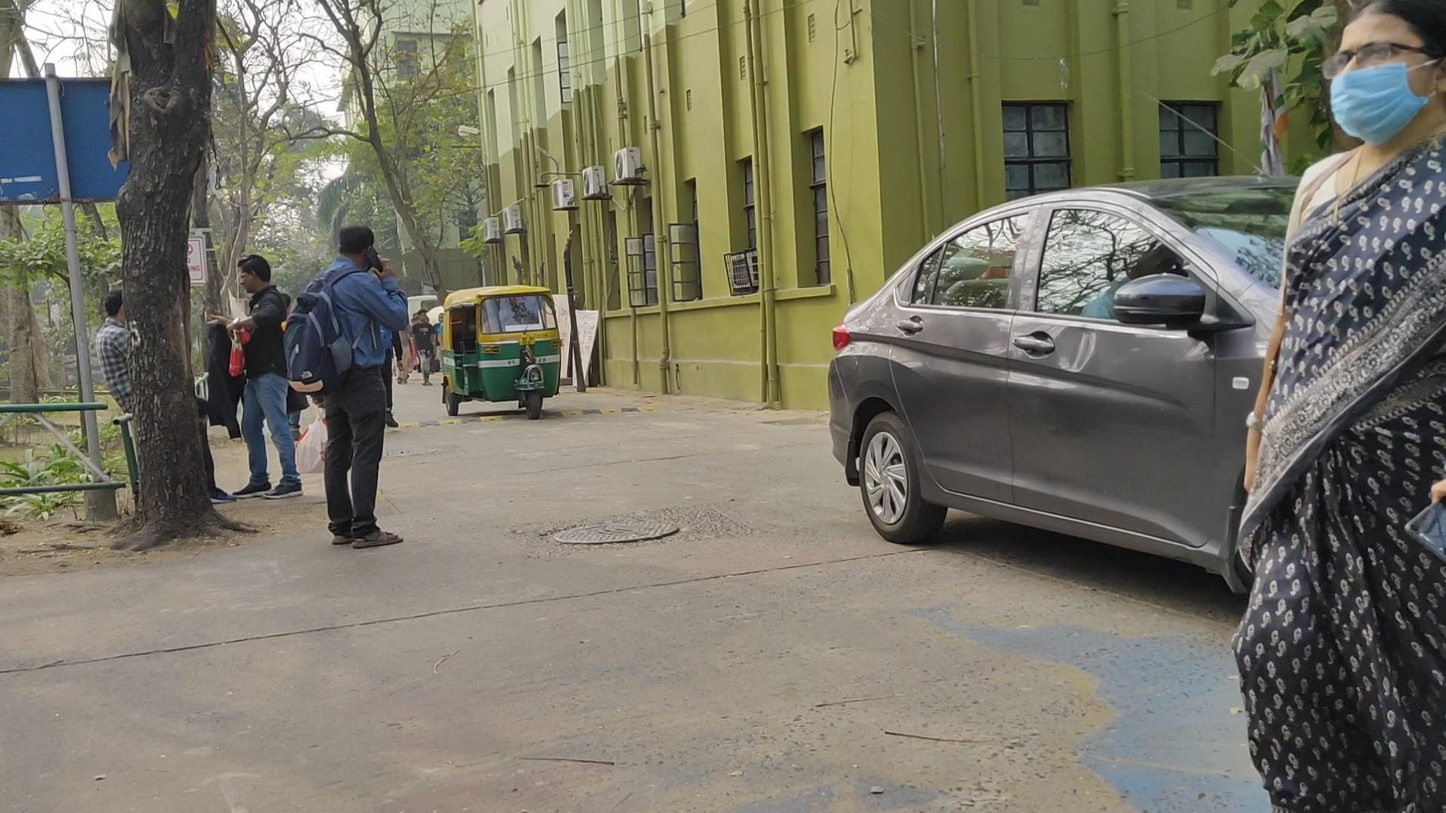Auto: (439, 285, 562, 419)
car: (830, 173, 1341, 609)
